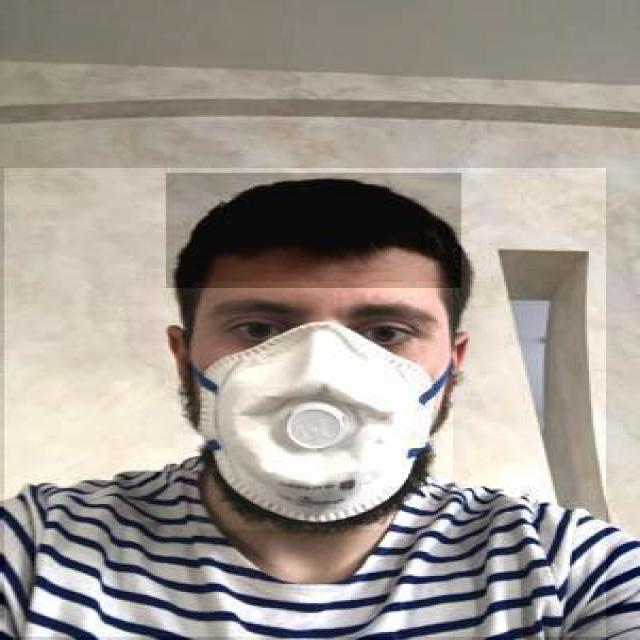face_mask: (191, 282, 453, 531)
head_nohelmet: (166, 173, 461, 288)
person: (2, 168, 606, 638)
